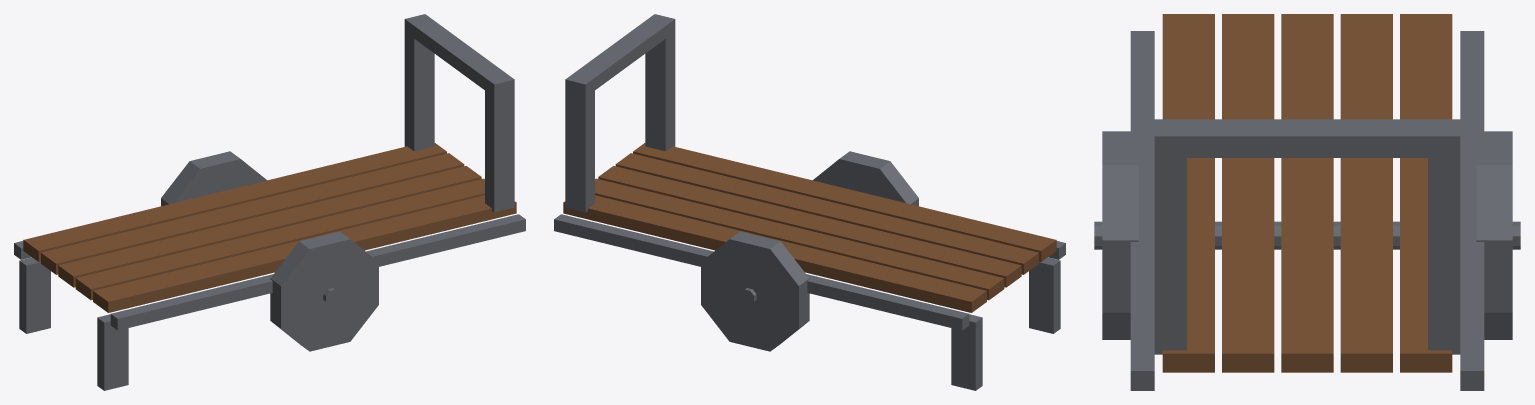
Rendered from SN_Handcart.glb.
3 views of the same model, side by side, from view 1: azimuth 30°, elevation 25°; view 2: azimuth 150°, elevation 25°; view 3: azimuth 270°, elevation 25° (orthographic). The views are drawn at different scales.
Visible parts, largest first — view 1: SN_Handcart; view 2: SN_Handcart; view 3: SN_Handcart.
Boxes of the visible parts, x1,y1,x2,y2 form: SN_Handcart: (14, 14, 525, 390); SN_Handcart: (554, 14, 1065, 390); SN_Handcart: (1094, 14, 1520, 390).
Bounding box in the file's own units: 2.02 × 1 × 1.06.
